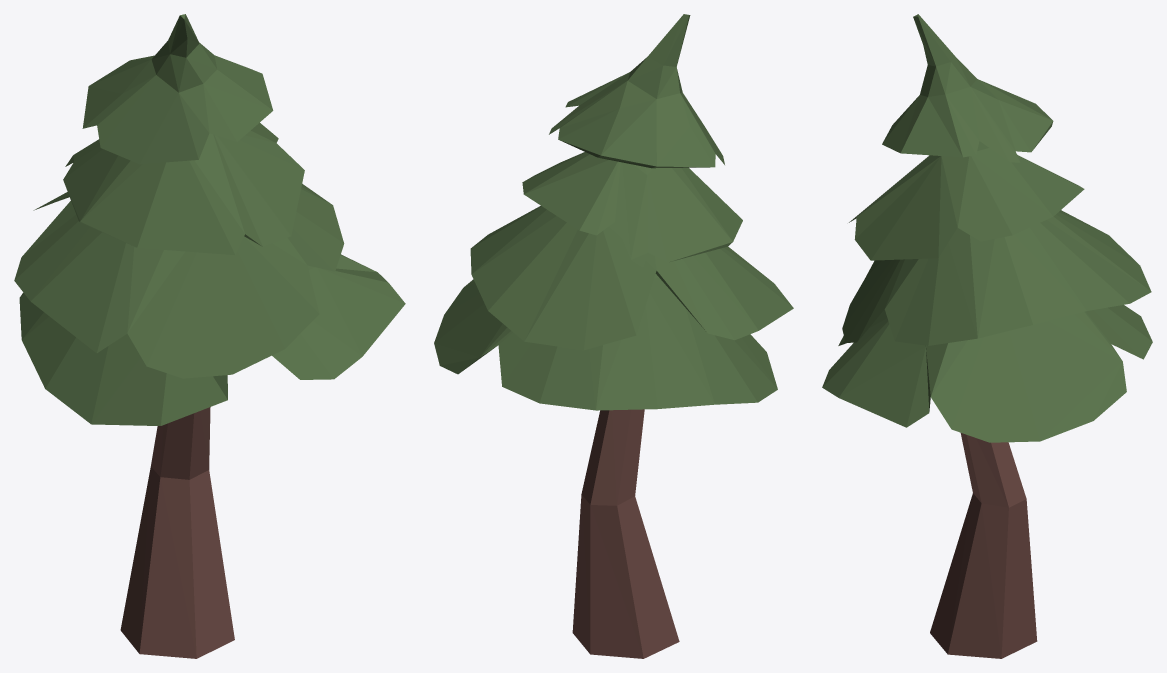
The model's file is PineTree_5.lod2.glb.
3 renders of one model, left to right at view 1: azimuth 30°, elevation 25°; view 2: azimuth 150°, elevation 25°; view 3: azimuth 270°, elevation 25°, orthographic. The views are drawn at different scales.
Parts seen in each view (by area): view 1: PineTree_5; view 2: PineTree_5; view 3: PineTree_5.
Part boxes in pixels (left/top/right/bottom): PineTree_5: left=14, top=14, right=405, bottom=658; PineTree_5: left=434, top=14, right=793, bottom=658; PineTree_5: left=822, top=14, right=1152, bottom=658.
Bounding box in the file's own units: 1.46 × 2.7 × 1.33.
